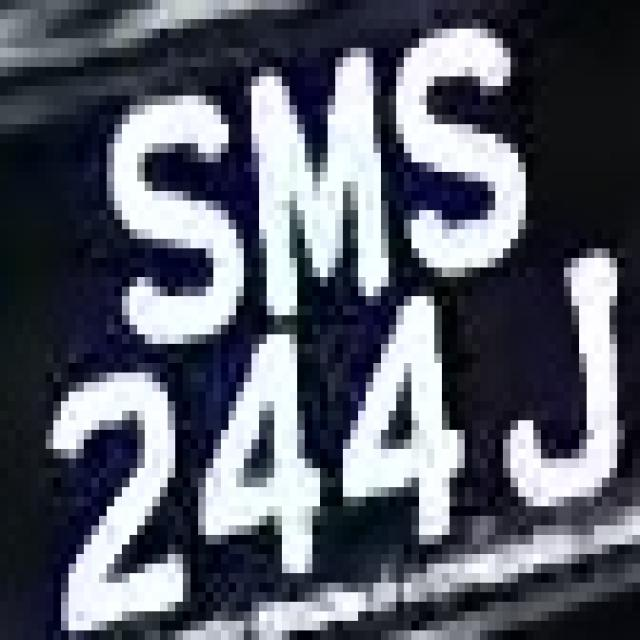2: (23, 344, 206, 630)
4: (175, 296, 343, 602), (312, 296, 488, 583)
J: (472, 248, 632, 535)
M: (229, 38, 396, 315)
S: (84, 67, 236, 372), (374, 29, 548, 277)
